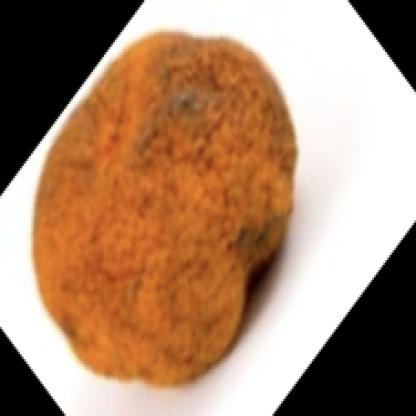rotten: (33, 32, 297, 385)
